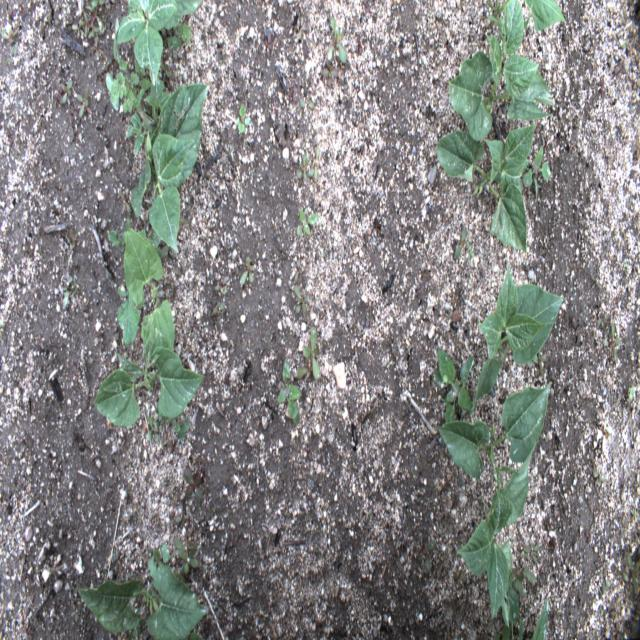crop: (434, 381, 554, 626), (125, 75, 210, 251), (449, 0, 554, 142), (468, 264, 563, 418), (434, 121, 538, 253), (92, 332, 204, 427), (78, 564, 211, 639), (116, 226, 174, 367), (118, 1, 204, 86), (492, 584, 548, 640), (487, 1, 566, 34)
weed: (434, 348, 474, 426), (520, 144, 552, 199), (277, 363, 303, 427), (173, 522, 197, 577), (324, 14, 348, 66), (509, 554, 537, 596), (302, 324, 321, 382), (145, 539, 171, 581), (79, 0, 106, 36), (600, 321, 622, 365), (132, 56, 154, 90), (296, 207, 320, 237), (104, 69, 121, 111), (118, 57, 140, 88), (418, 538, 436, 575), (173, 497, 190, 536), (110, 71, 130, 104), (529, 345, 547, 378), (626, 552, 640, 594), (184, 470, 201, 502), (239, 256, 254, 292), (124, 87, 144, 112), (172, 22, 190, 46), (70, 597, 85, 625), (297, 150, 310, 181), (294, 362, 324, 375), (76, 84, 88, 116), (455, 226, 466, 260), (236, 102, 247, 136), (296, 286, 309, 314), (90, 35, 103, 60), (146, 416, 158, 442), (596, 565, 607, 593), (175, 418, 189, 440), (71, 18, 85, 38), (60, 83, 71, 108), (161, 61, 174, 82), (215, 274, 227, 296), (523, 545, 538, 561), (168, 36, 182, 52), (312, 144, 318, 180), (466, 240, 475, 260), (627, 384, 635, 402), (455, 574, 466, 586), (621, 38, 629, 48), (596, 319, 604, 328)
